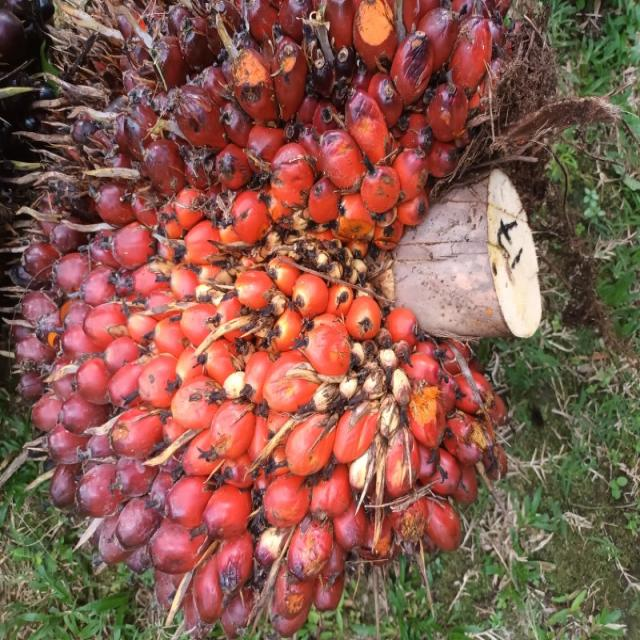fraksi 3: (0, 83, 474, 640)
